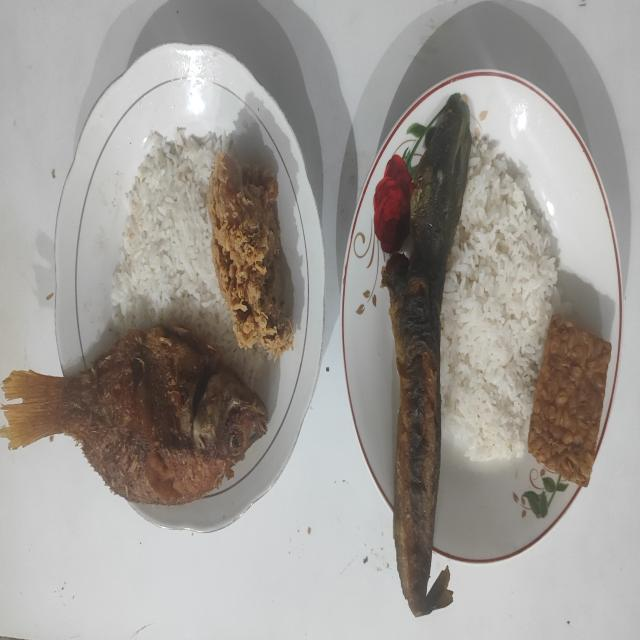ikan_mujair: (0, 324, 268, 505)
nasi_putih: (440, 136, 572, 460), (111, 128, 266, 384)
tempe_goreng: (528, 314, 611, 489)
